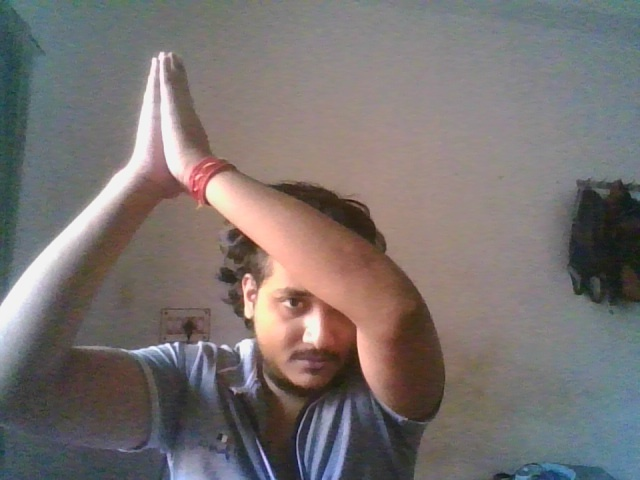ThankYou: (133, 51, 206, 196)
